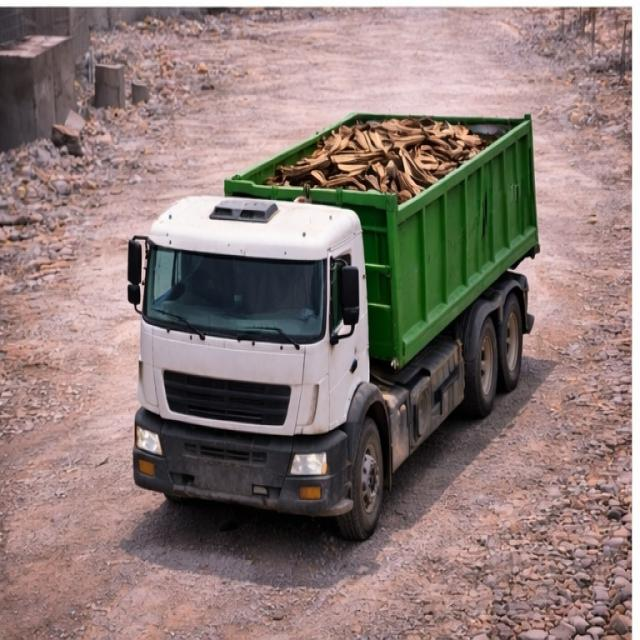Box: (221, 115, 535, 197)
Truck: (126, 113, 544, 508)
